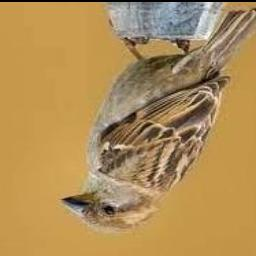Sparrow: (60, 8, 256, 233)
